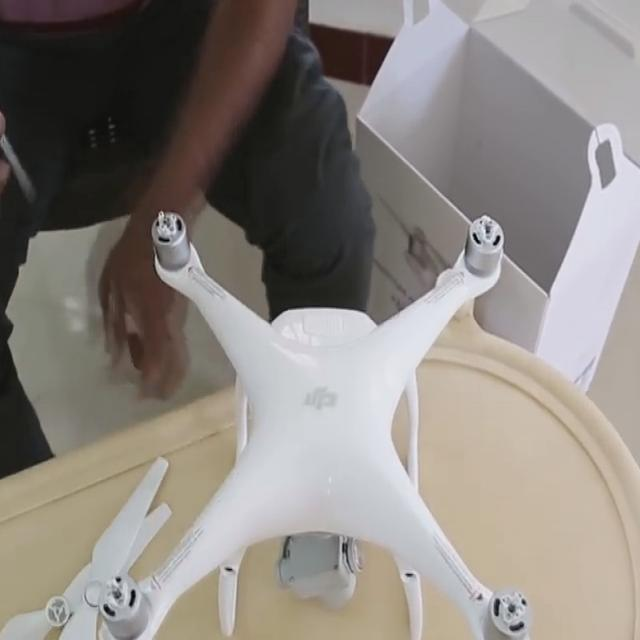drone: (103, 199, 546, 640)
